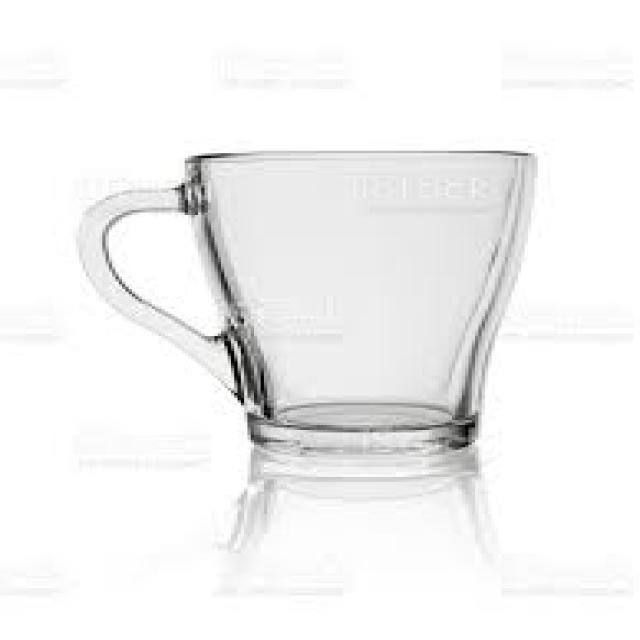glass: (76, 146, 534, 457)
